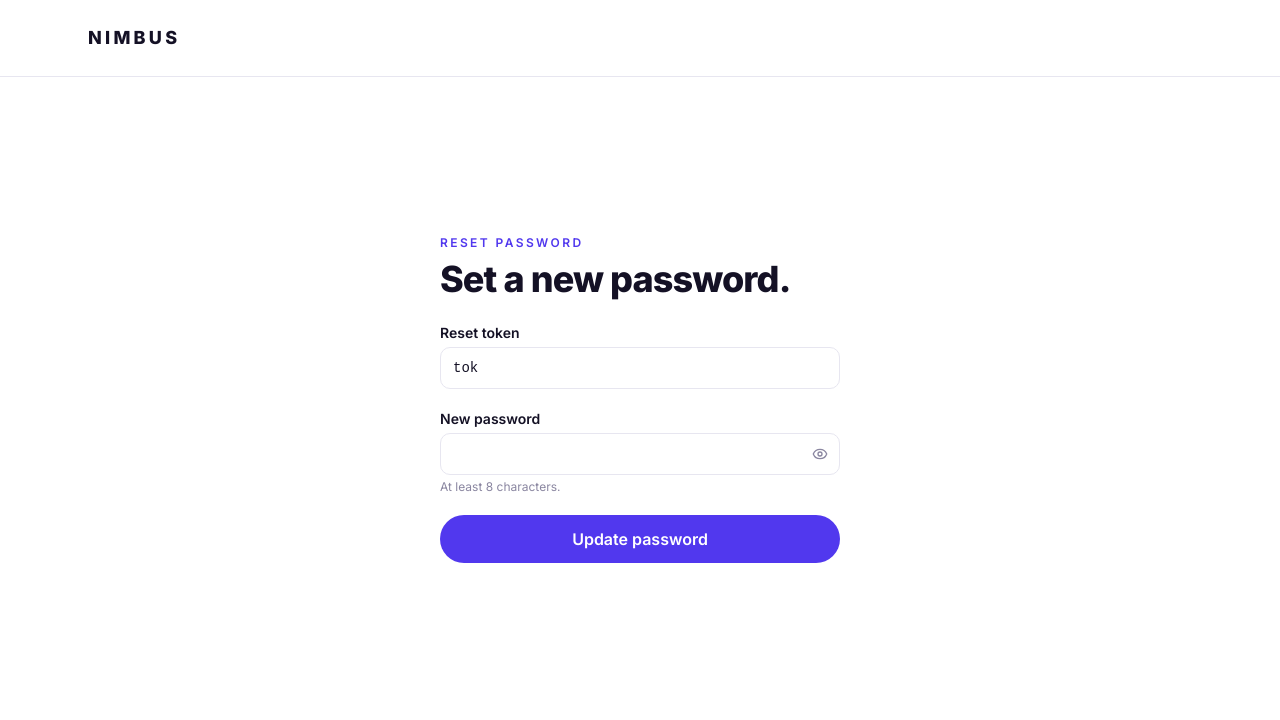
Scenario: PasswordResetConfirmPage › rejects a short password client-side
In the password field labelled "New password": (640, 454) [440,432,840,474], type "short"
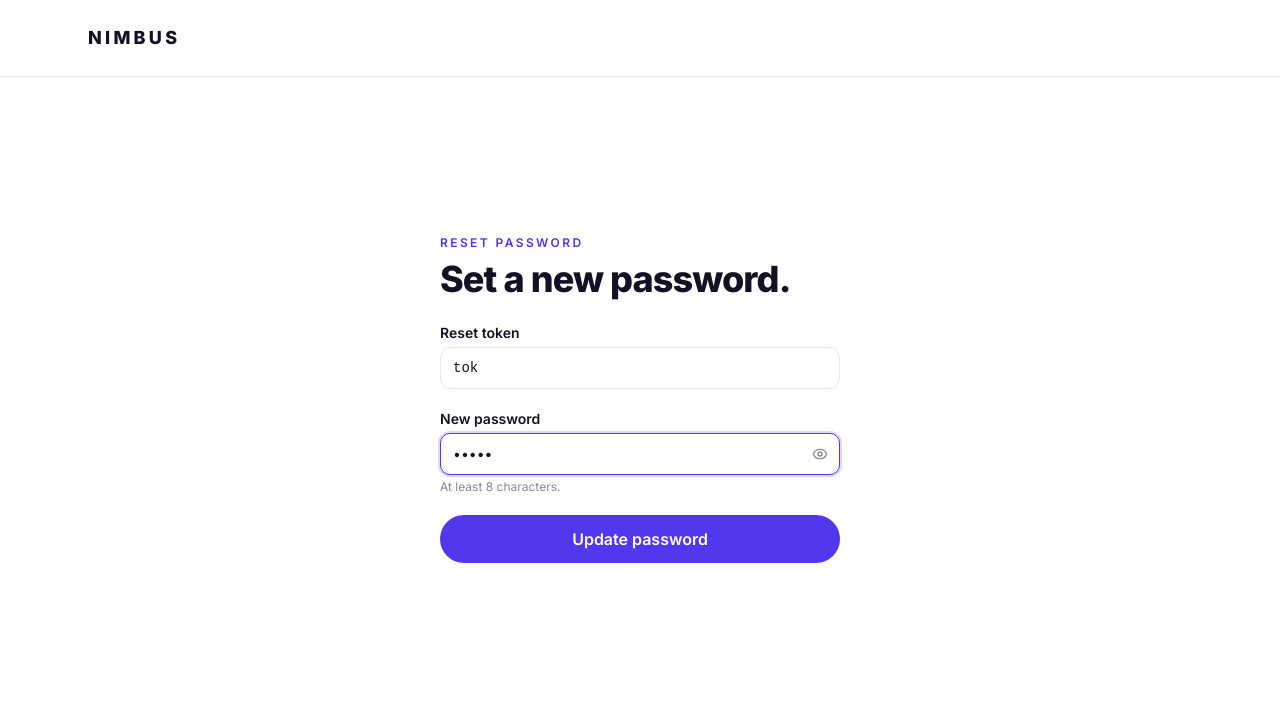
Click the button "Update password": (640, 538) [440,514,840,562]
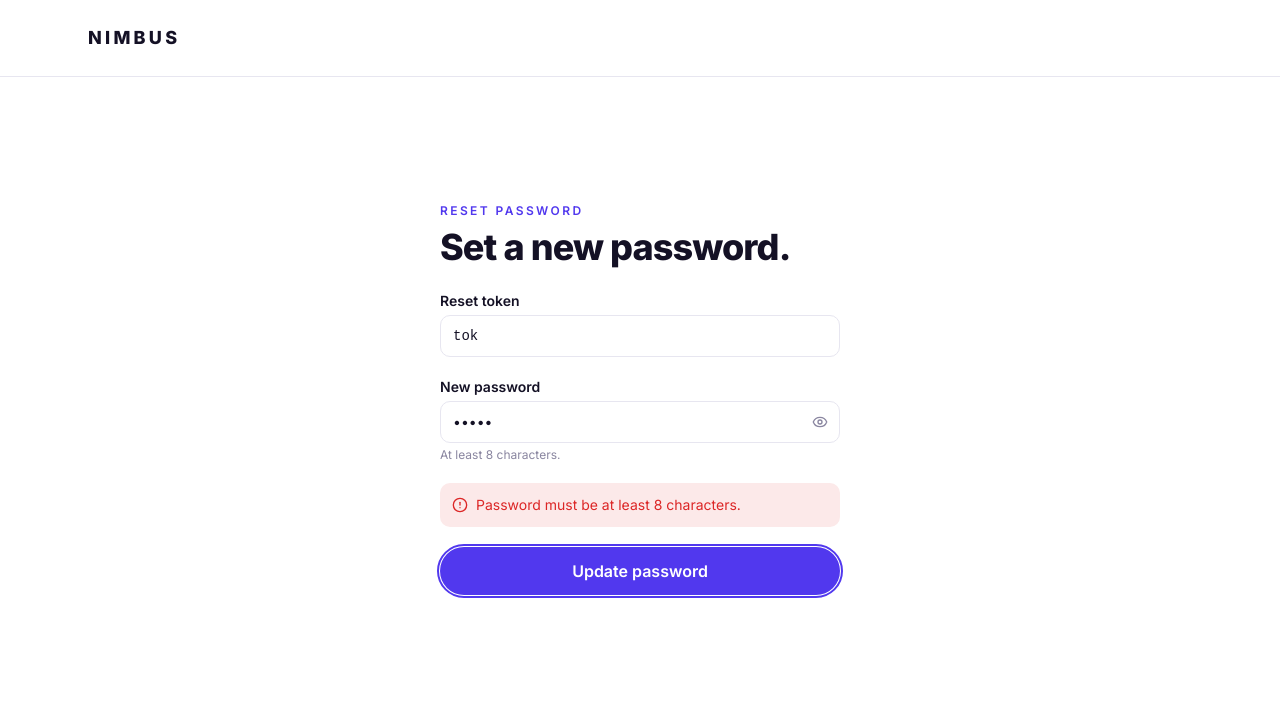
expect the message shows "at least 8 characters": met, box [476,496,741,512]
